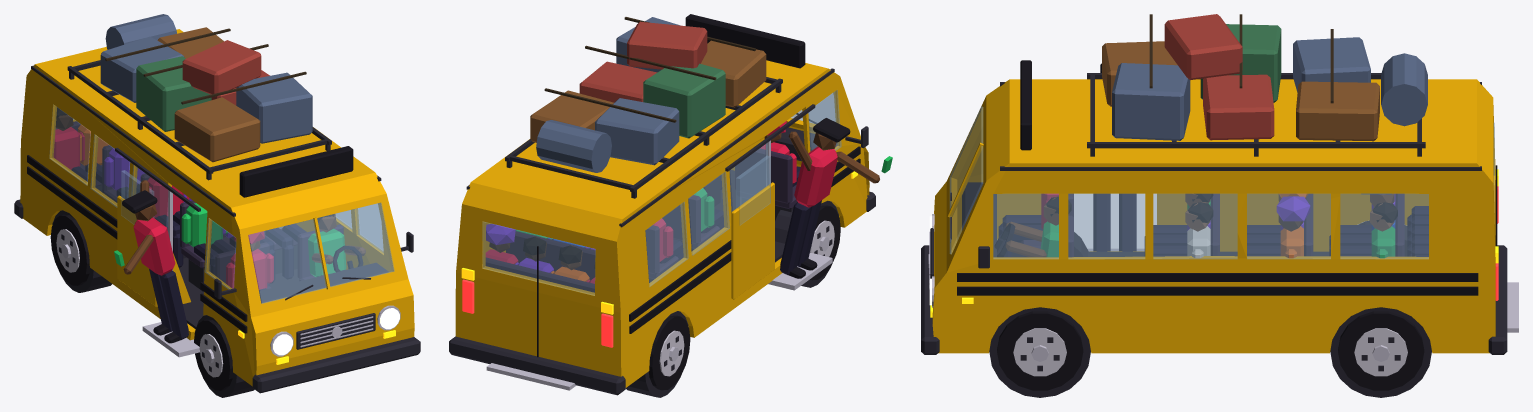
Rendered from danfo.glb.
3 views of the same model, side by side, from view 1: azimuth 30°, elevation 25°; view 2: azimuth 150°, elevation 25°; view 3: azimuth 270°, elevation 25° (orthographic). The views are drawn at different scales.
Visible parts, largest first — view 1: body, conductor, wheel_2, wheel_0, driver, pax_1, pax_10, pax_4, pax_0, pax_7, pax_3, pax_11; view 2: body, conductor, wheel_2, wheel_0, pax_13, pax_11, pax_4, pax_12, pax_1, pax_0; view 3: body, wheel_1, wheel_3, conductor, driver, pax_6, pax_9, pax_3, pax_0, pax_1, pax_7, pax_2 (+3 smaller).
Boxes of the visible parts, <box> form: body: <box>14,14,420,397</box>; conductor: <box>114,180,188,343</box>; wheel_2: <box>50,214,90,285</box>; wheel_0: <box>194,319,233,390</box>; driver: <box>308,214,365,276</box>; pax_1: <box>181,203,235,274</box>; pax_10: <box>53,107,96,188</box>; pax_4: <box>147,177,189,267</box>; pax_0: <box>226,231,273,290</box>; pax_7: <box>104,148,144,198</box>; pax_3: <box>265,223,306,279</box>; pax_11: <box>78,124,108,193</box>; body: <box>449,14,875,397</box>; conductor: <box>780,118,892,278</box>; wheel_2: <box>649,315,690,390</box>; wheel_0: <box>810,205,840,280</box>; pax_13: <box>485,224,518,264</box>; pax_11: <box>551,245,589,281</box>; pax_4: <box>653,218,683,263</box>; pax_12: <box>515,236,553,272</box>; pax_1: <box>694,188,724,233</box>; pax_0: <box>760,121,800,186</box>; body: <box>921,14,1518,397</box>; wheel_1: <box>997,311,1083,390</box>; wheel_3: <box>1338,311,1424,390</box>; conductor: <box>1093,63,1136,251</box>; driver: <box>1005,196,1071,257</box>; pax_6: <box>1276,196,1310,258</box>; pax_9: <box>1370,202,1397,258</box>; pax_3: <box>1185,202,1213,258</box>; pax_0: <box>998,193,1058,257</box>; pax_1: <box>1144,200,1210,255</box>; pax_7: <box>1329,194,1395,255</box>; pax_2: <box>1153,193,1213,256</box>.
Size of the model in its own units: 3.02 by 3.05 by 5.12.
